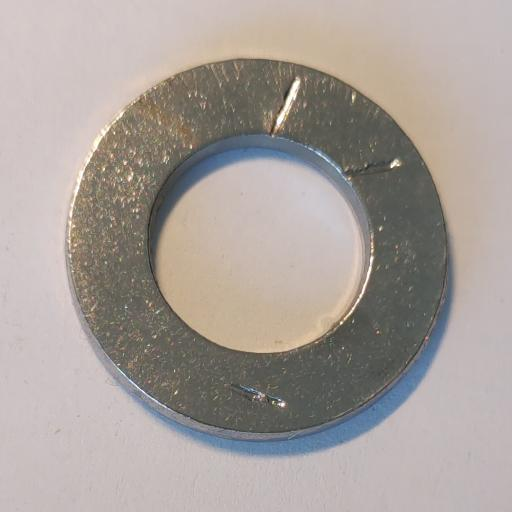scratch: (270, 76, 301, 139), (224, 383, 288, 410), (344, 157, 402, 180)
